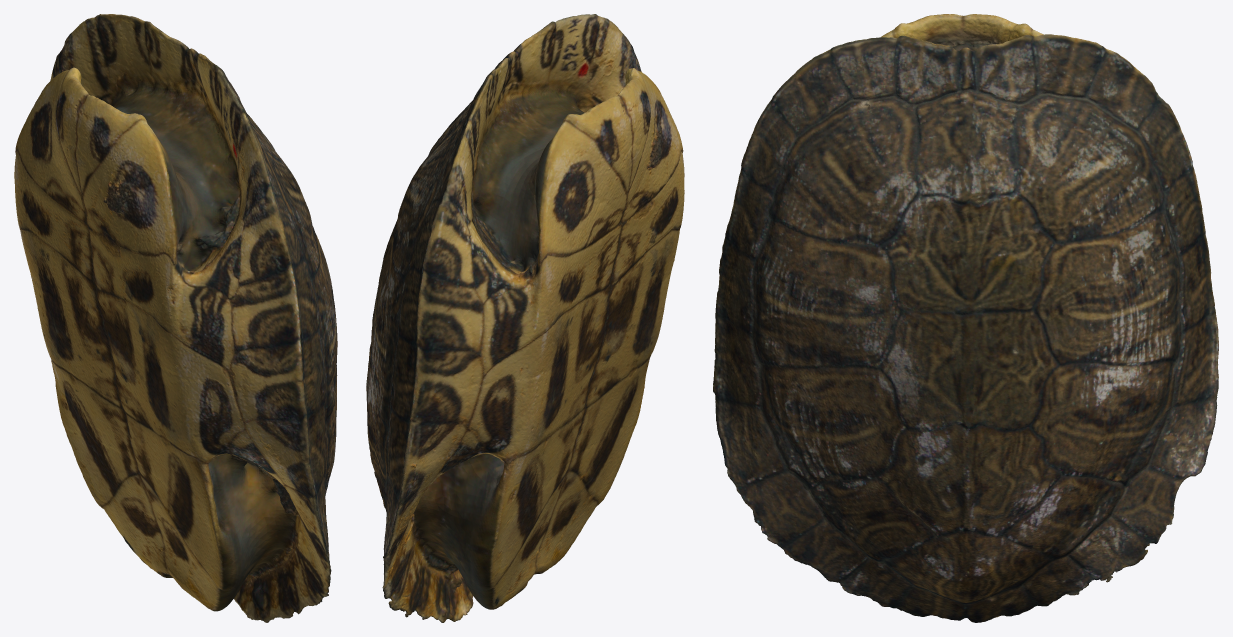
Rendered from turtle-shell-real-scan.glb.
3 views of the same model, side by side, from view 1: azimuth 30°, elevation 25°; view 2: azimuth 150°, elevation 25°; view 3: azimuth 270°, elevation 25° (orthographic).
Parts seen in each view (by area): view 1: Object_2; view 2: Object_2; view 3: Object_2.
Part boxes in pixels (x1,y1,x2,y2): Object_2: (14, 14, 337, 622); Object_2: (366, 14, 684, 622); Object_2: (713, 14, 1218, 622).
Bounding box in the file's own units: 62.36 × 139 × 112.
1 material, 1 textured.
